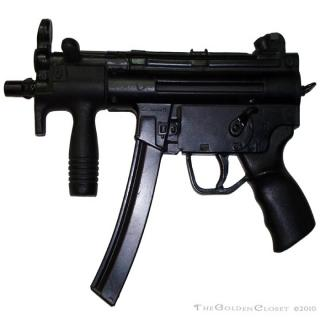gun: (1, 17, 316, 303)
